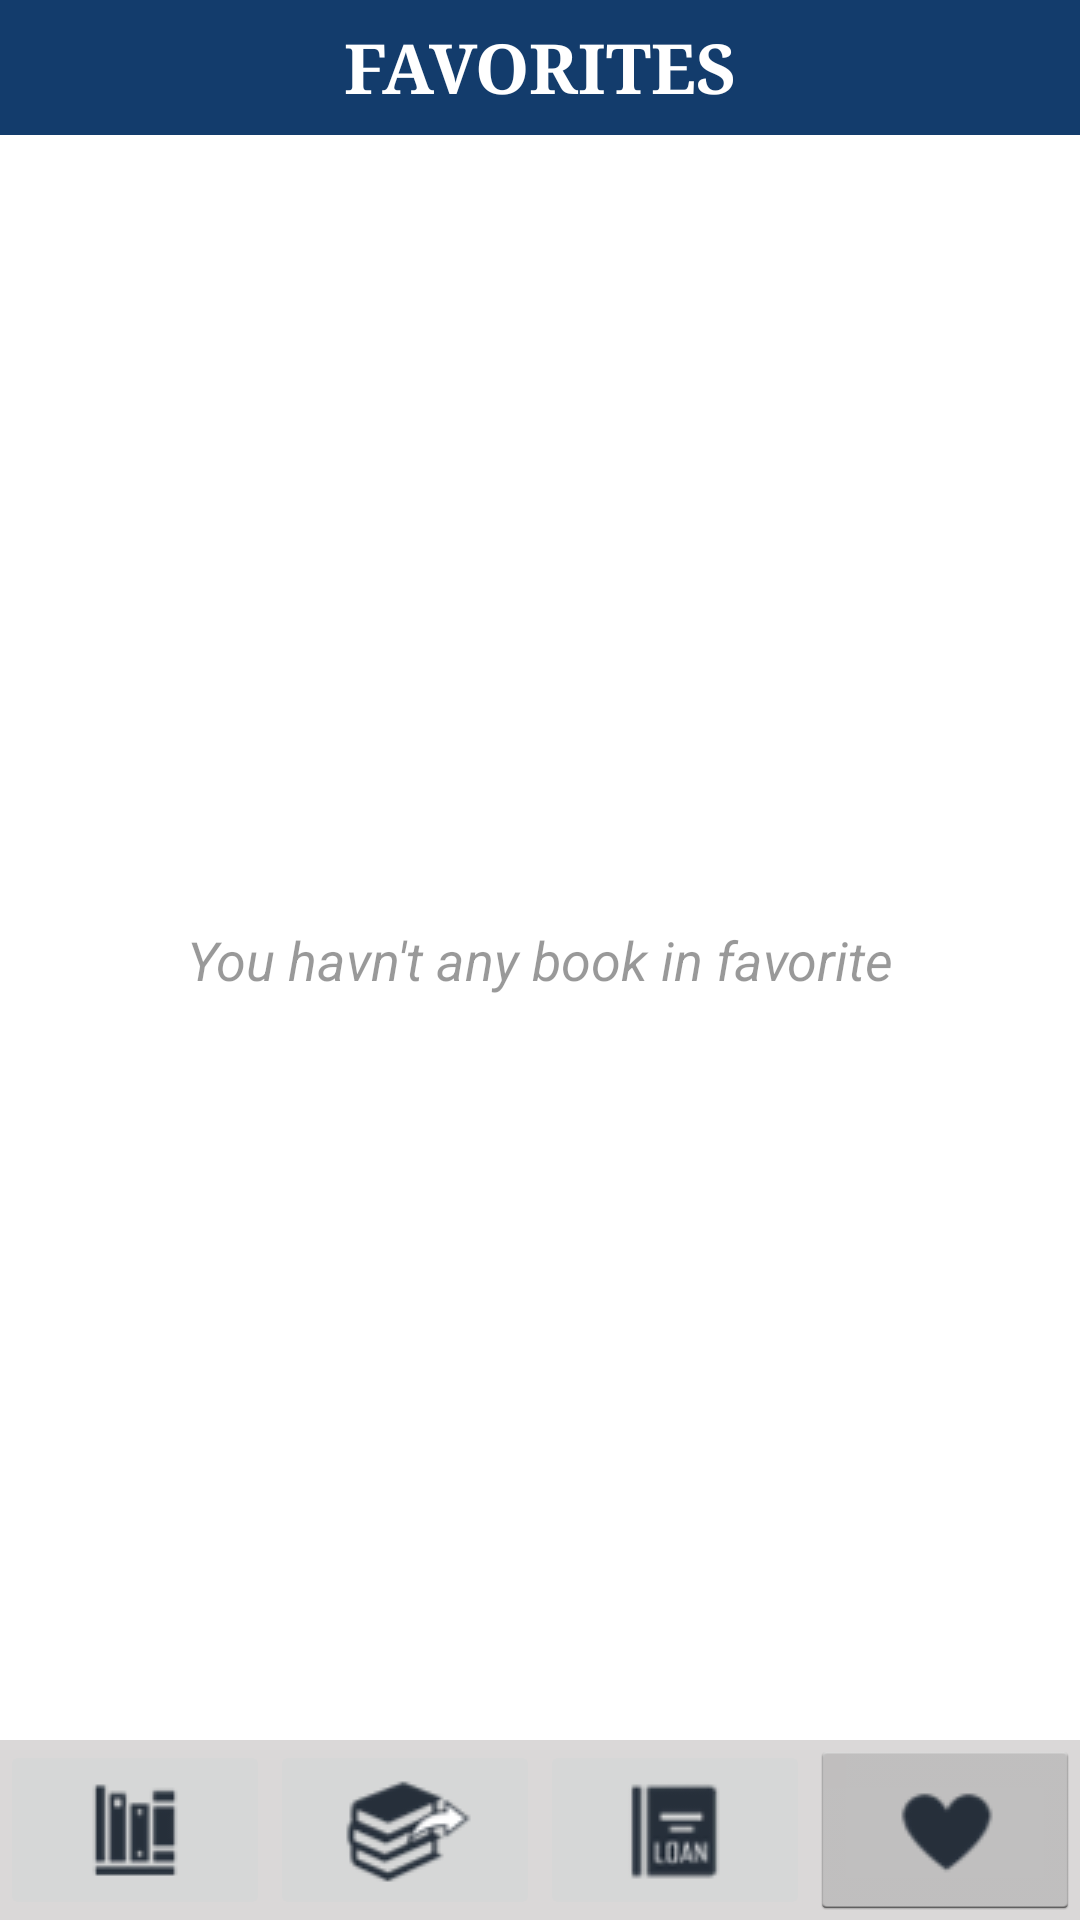

Where to tap for icons on this 1080px×1920px app screen, as (x=x, y=y):
library: (x=135, y=1830)
return: (x=408, y=1831)
